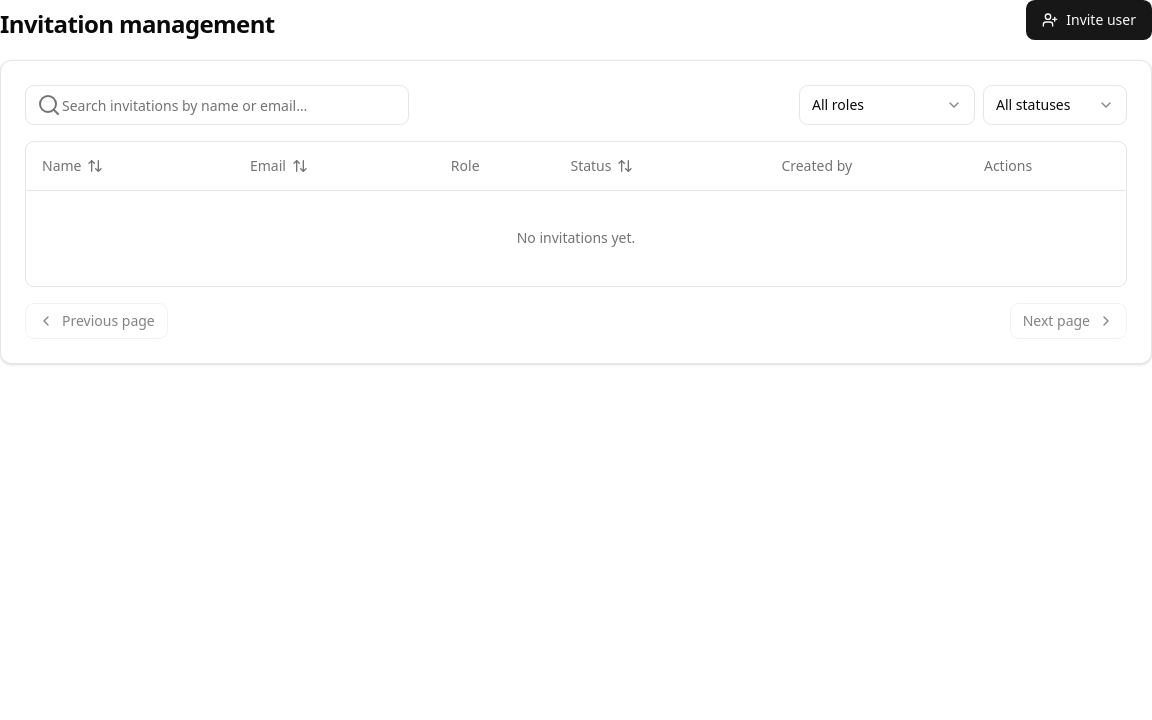
access components › requires explicit invitation role selection instead of defaulting to Super Admin
Expected: the heading "Invitation management" is shown, [0,8,275,40]
Click the button "Invite user": click(1089, 20) [1026,0,1151,40]
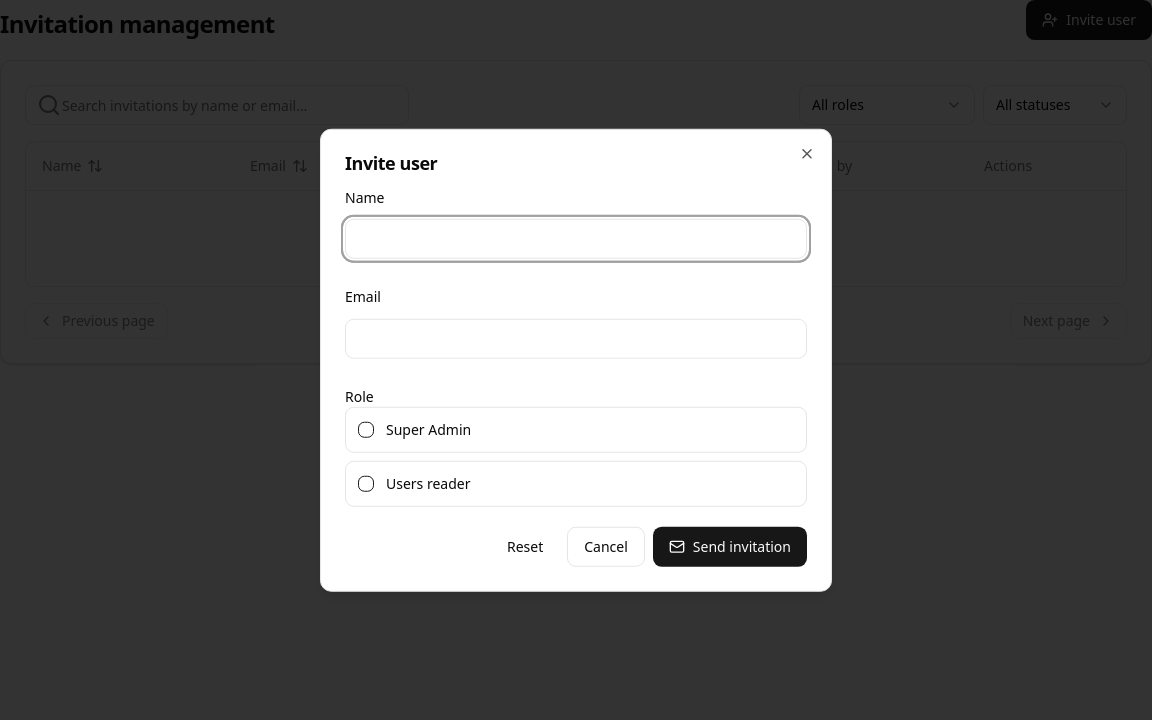
Result: the form labelled "Name" is shown at [345,188,807,566]
Result: the checkbox named "Super Admin" is not checked at [358,421,374,437]
Result: the checkbox named "Users reader" is not checked at [358,475,374,491]
